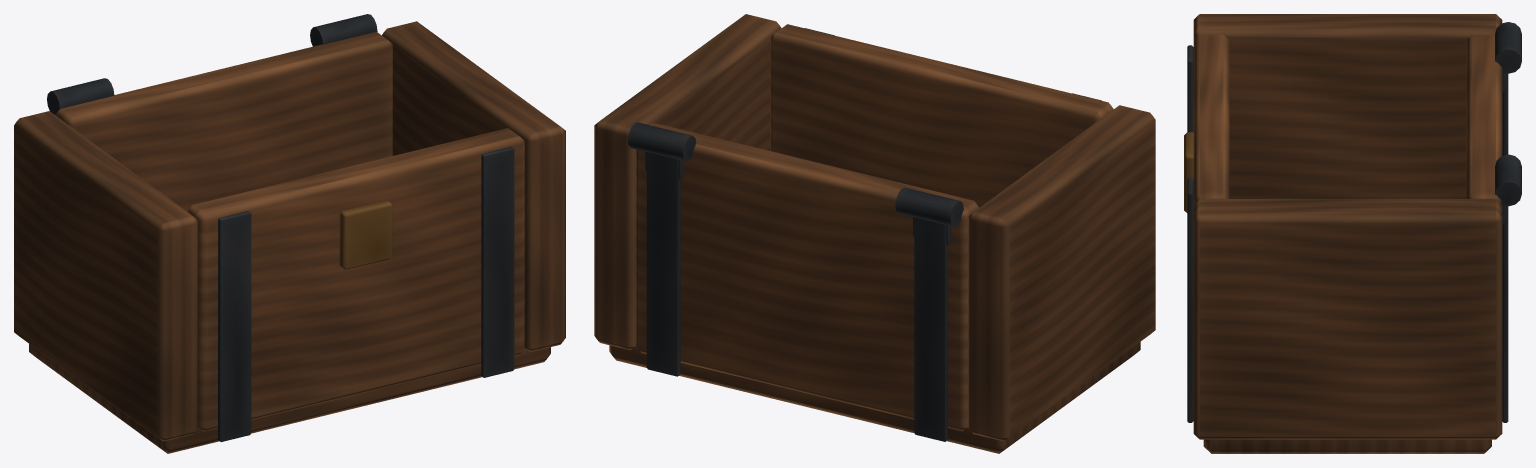
The model's file is Furn_Dun_Chest.fbx.
3 renders of one model, left to right at view 1: azimuth 30°, elevation 25°; view 2: azimuth 150°, elevation 25°; view 3: azimuth 270°, elevation 25°, orthographic. The views are drawn at different scales.
Visible parts, largest first — view 1: Furn_Dun_Chest; view 2: Furn_Dun_Chest; view 3: Furn_Dun_Chest.
Boxes of the visible parts, box(x1,y1,x2,y2) form: Furn_Dun_Chest: box(14, 14, 565, 453); Furn_Dun_Chest: box(594, 14, 1155, 453); Furn_Dun_Chest: box(1184, 14, 1521, 453).
Size of the model in its own units: 0.9 by 0.525 by 0.625.
3 materials, 3 textured.
